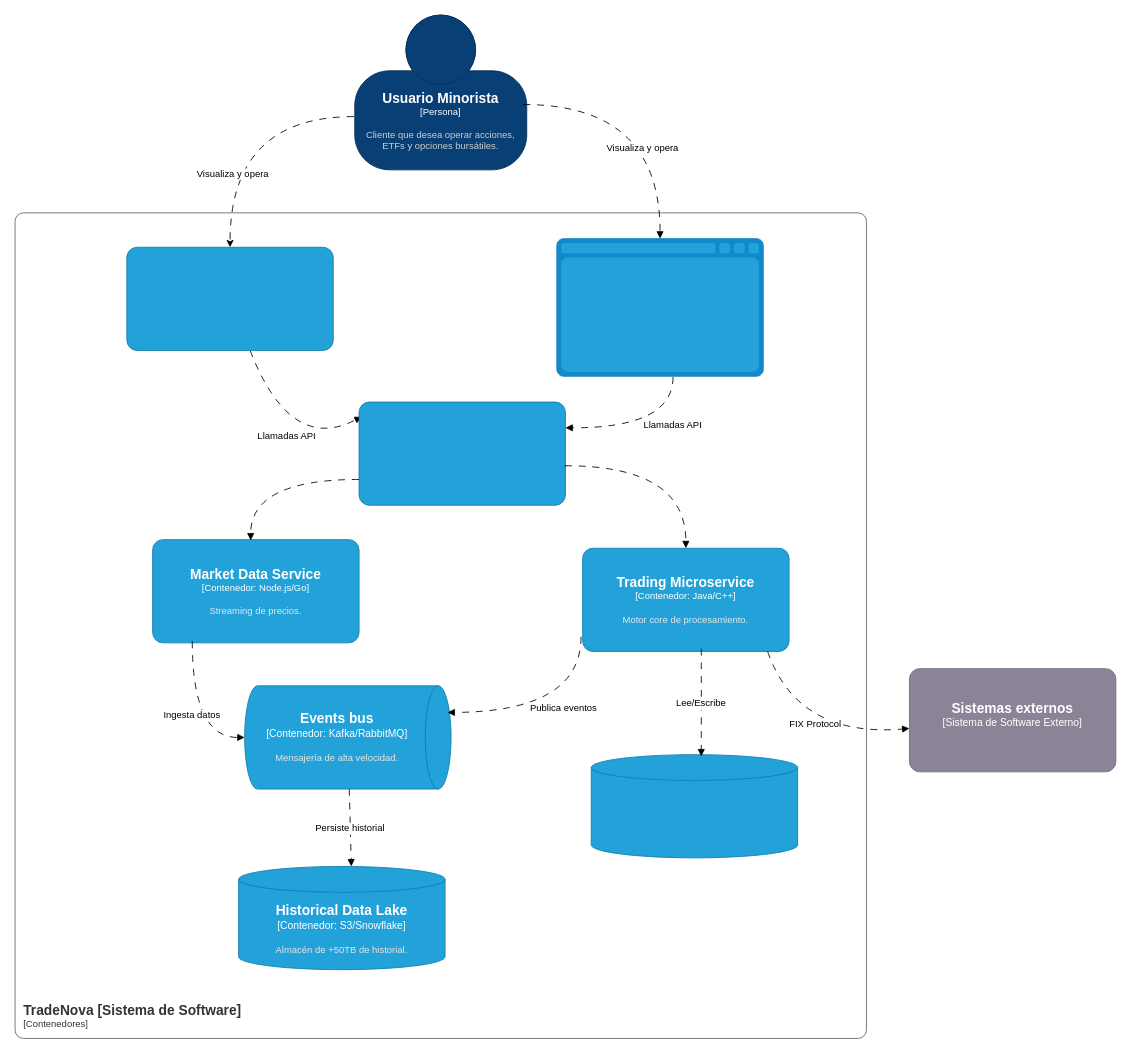
Image size: 1131x1054. Some labels were removed from this diagram. The shapes that lost their labels are listed below. From the top down, each one's centre as x and y in pixels, then its label:
the point at 229,298: Mobile App [Contenedor: Swift/Kotlin] Acceso móvil para los usuarios.
the point at 659,307: Single-Page Application [Contenedor: React/Angular] Interfaz web para trading.
the point at 461,453: API Gateway [Contenedor: Go/Spring Cloud] Punto de entrada y balanceo.
the point at 694,806: Transactional DB [Contenedor: PostgreSQL Cluster] Persistencia de órdenes.
